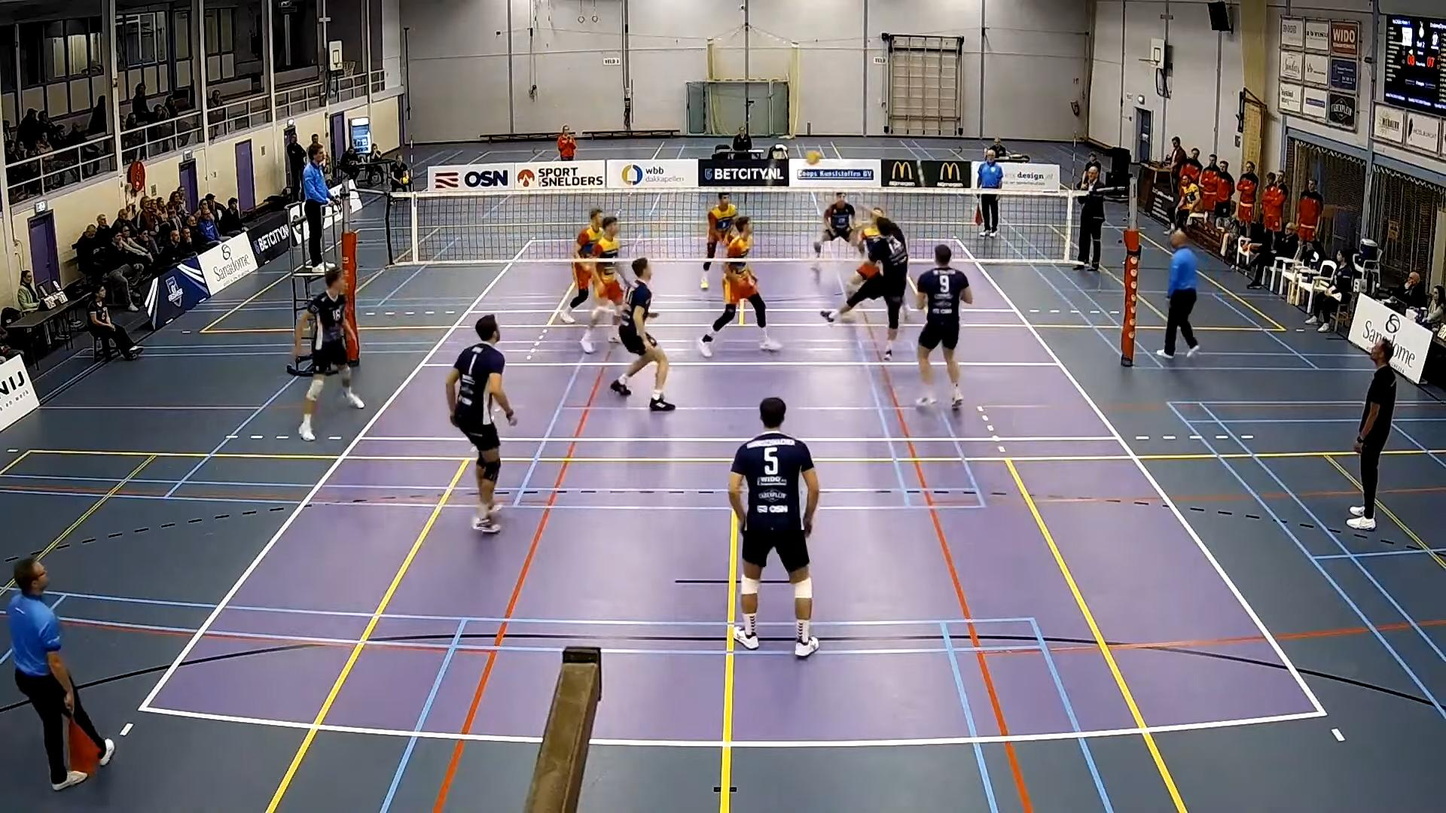Attack: (821, 201, 912, 358)
Player: (729, 397, 819, 657), (446, 315, 516, 533), (294, 267, 364, 441), (698, 216, 782, 357), (611, 258, 675, 411), (917, 245, 972, 408), (580, 215, 623, 353), (559, 208, 602, 324), (812, 191, 856, 273), (700, 193, 737, 289), (845, 207, 884, 297)
ball: (806, 148, 818, 157)
